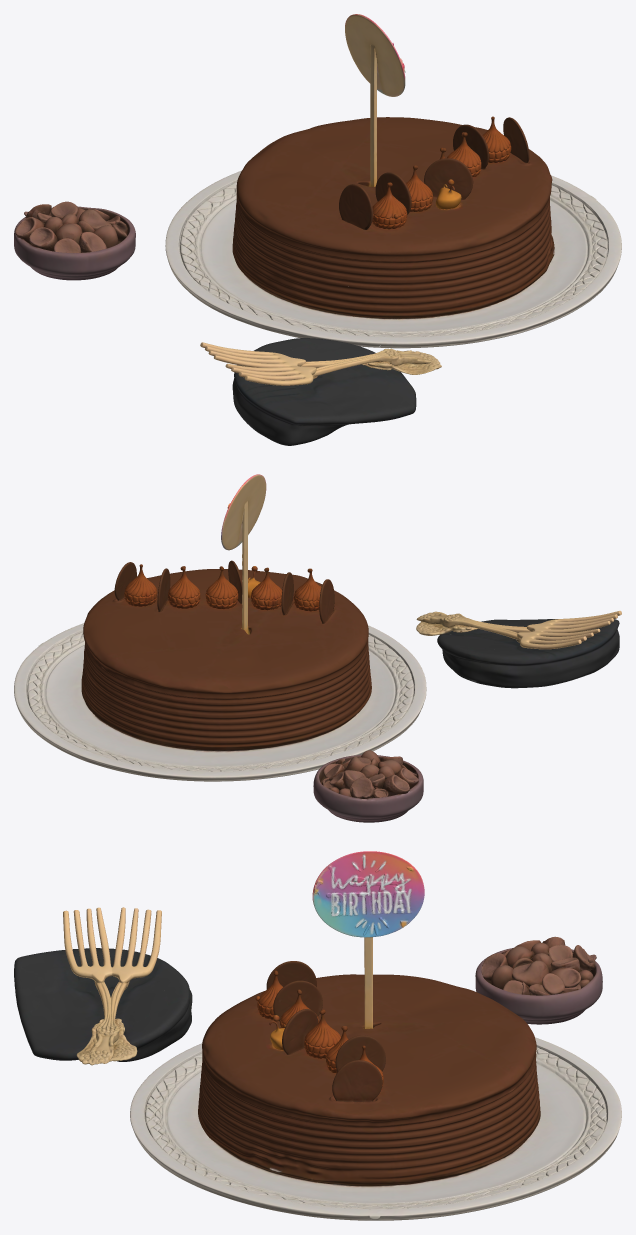
File: cake-compressed.glb
3 views of the same model, one above another, from view 1: azimuth 30°, elevation 25°; view 2: azimuth 150°, elevation 25°; view 3: azimuth 270°, elevation 25° (orthographic). The views are drawn at different scales.
Parts seen in each view (by area): view 1: tripo_node_988d8298-ba6d-4a91-b2a0-5bb8e0a339f7; view 2: tripo_node_988d8298-ba6d-4a91-b2a0-5bb8e0a339f7; view 3: tripo_node_988d8298-ba6d-4a91-b2a0-5bb8e0a339f7.
Boxes of the visible parts, x1=… form: tripo_node_988d8298-ba6d-4a91-b2a0-5bb8e0a339f7: x1=14, y1=14, x2=621, y2=445; tripo_node_988d8298-ba6d-4a91-b2a0-5bb8e0a339f7: x1=14, y1=474, x2=621, y2=822; tripo_node_988d8298-ba6d-4a91-b2a0-5bb8e0a339f7: x1=14, y1=851, x2=621, y2=1220.
Bounding box in the file's own units: 0.9781 × 0.4704 × 0.9807.
Materials: 1 (1 with a texture image).
